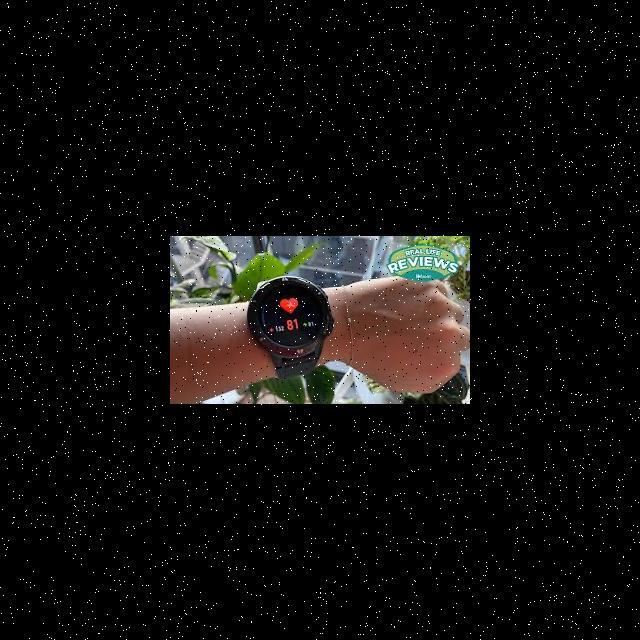watch: (222, 240, 343, 393)
